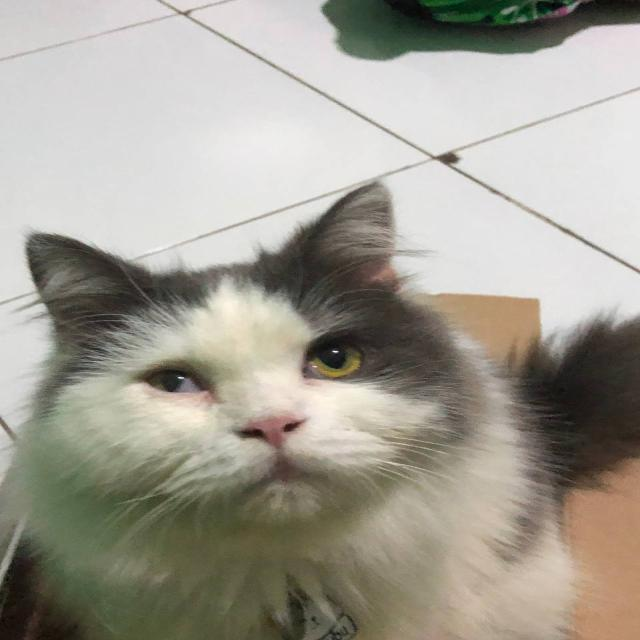da khoe manh: (358, 446, 578, 640)
